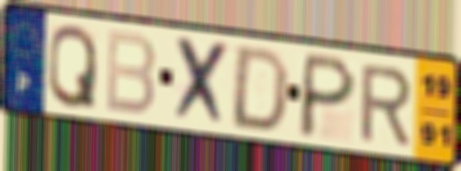B: (103, 27, 158, 118)
D: (227, 44, 293, 135)
P: (295, 50, 360, 142)
Q: (46, 22, 99, 112)
R: (357, 63, 414, 147)
X: (170, 33, 232, 131)
